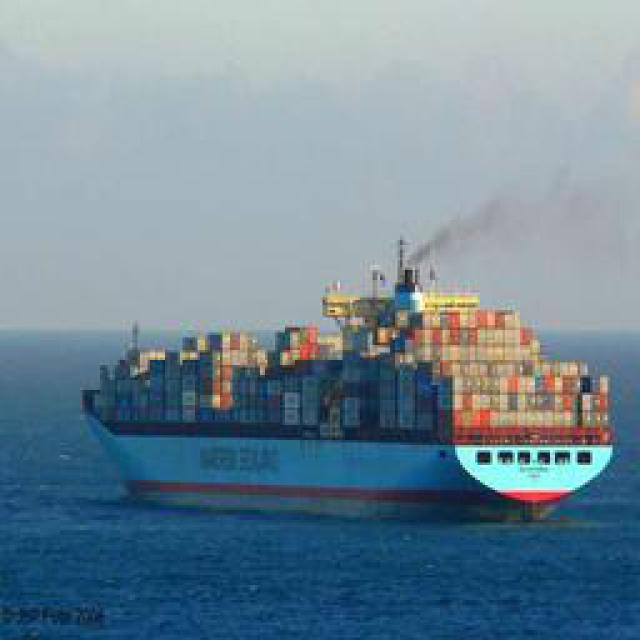Ship: (81, 220, 614, 520)
